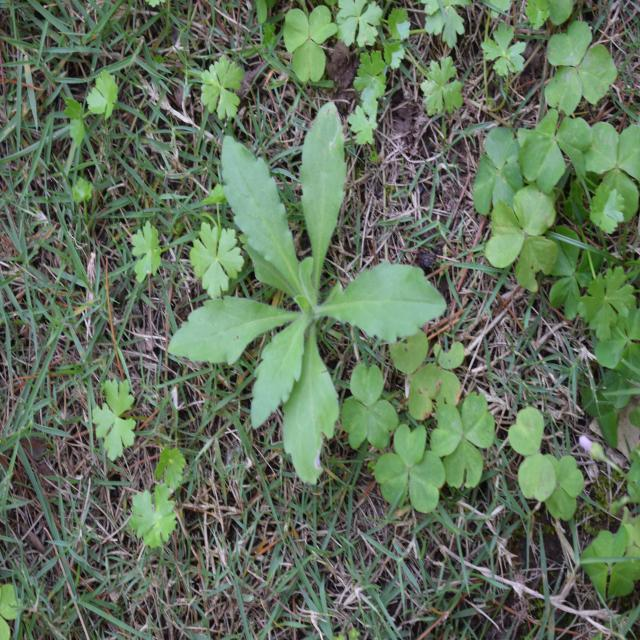horseweed: (220, 126, 416, 434)
